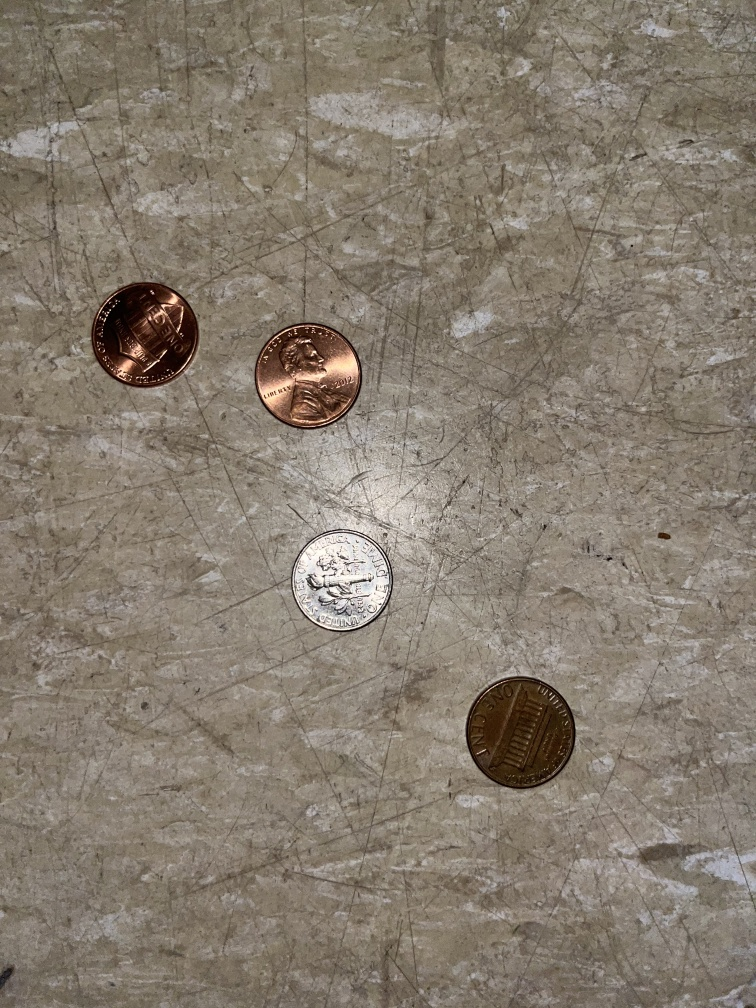dime: (288, 524, 399, 642)
penny: (456, 671, 580, 794), (245, 318, 374, 434), (86, 276, 206, 392)
